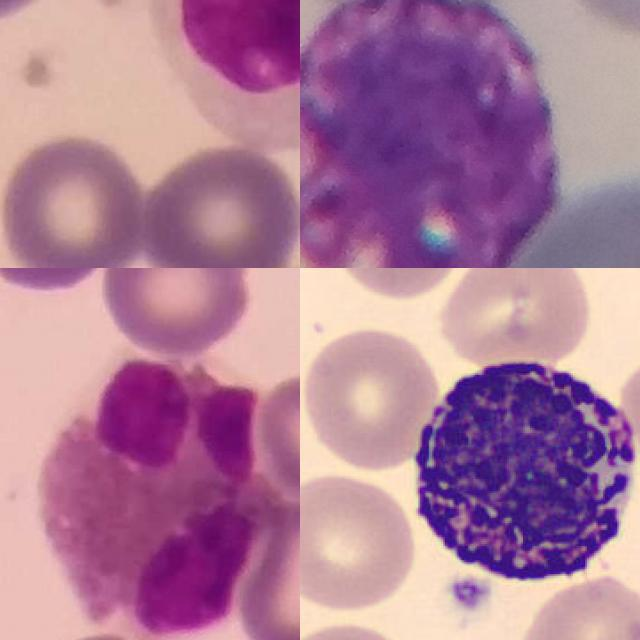Basophil: (300, 0, 561, 268), (398, 345, 640, 592)
Eosinophil: (36, 348, 274, 640)
Monocyte: (149, 0, 300, 143)
Platelets: (441, 573, 495, 617)
RBC: (300, 320, 442, 475), (300, 468, 419, 614), (436, 268, 594, 366), (516, 570, 640, 640), (322, 268, 468, 299)
